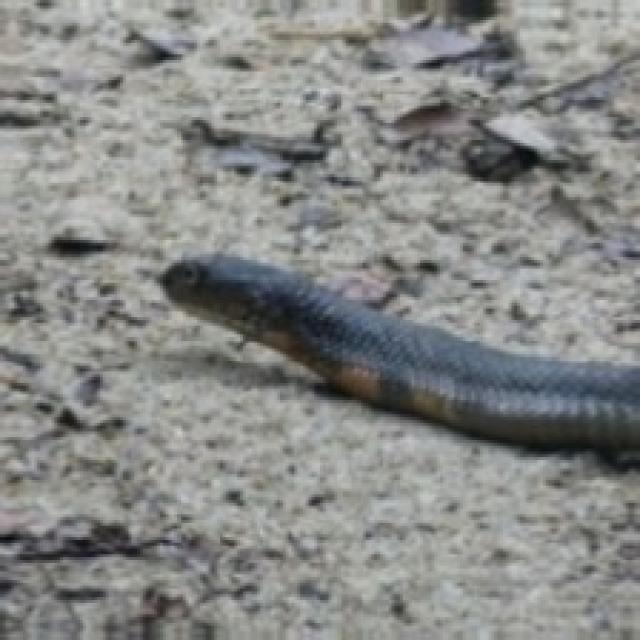king cobra: (160, 254, 637, 451)
